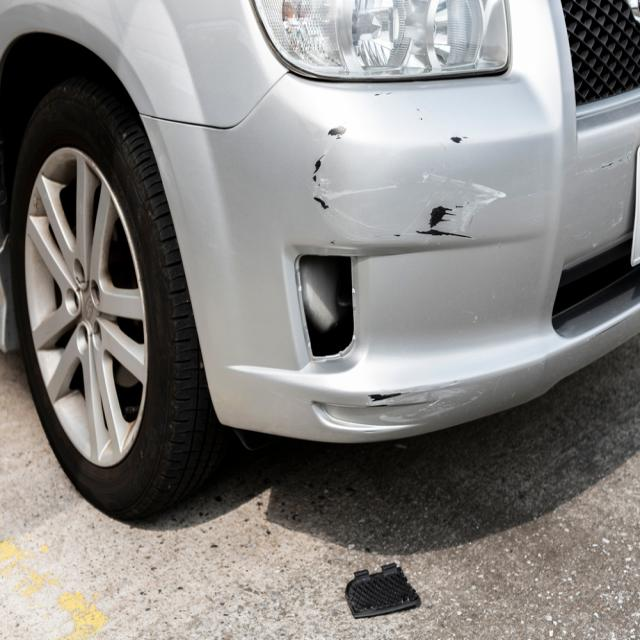scratch: (311, 124, 511, 250), (368, 375, 486, 427), (578, 149, 633, 249)
